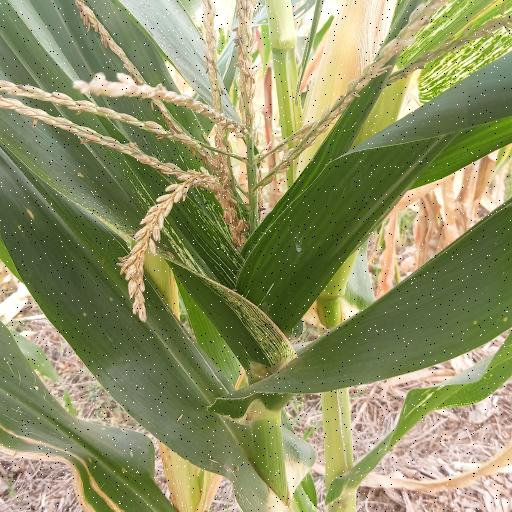Corn_Streak: (0, 0, 312, 391)
